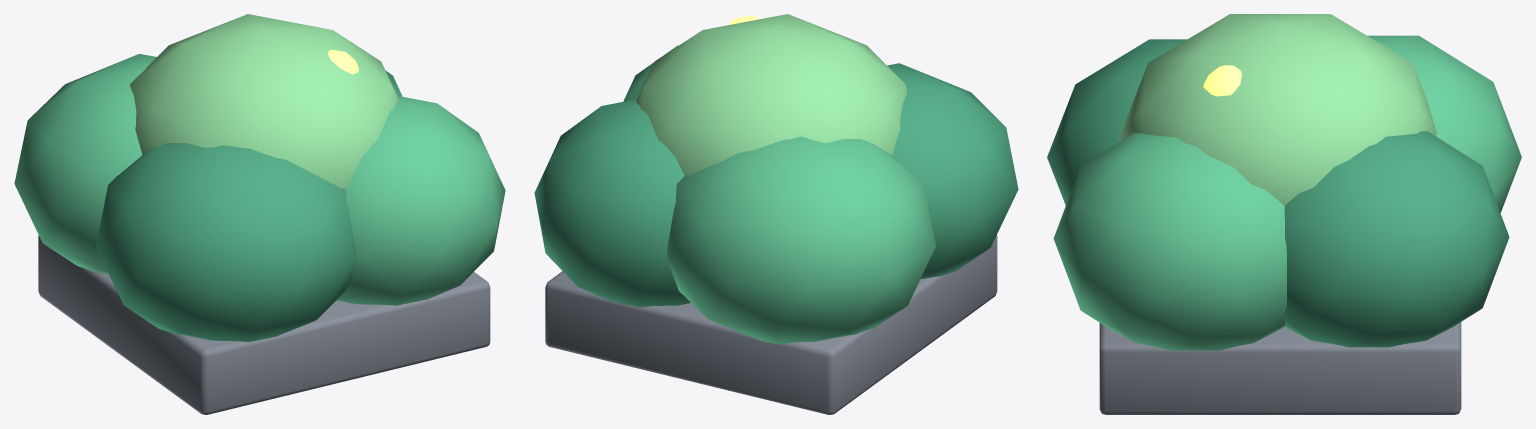
The model's file is foundry_bush.glb.
The picture shows the model from 3 angles, left to right: view 1: azimuth 30°, elevation 25°; view 2: azimuth 150°, elevation 25°; view 3: azimuth 270°, elevation 25°; orthographic projection. The views are drawn at different scales.
Visible parts, largest first — view 1: FoundryPlanterBush; view 2: FoundryPlanterBush; view 3: FoundryPlanterBush.
Boxes of the visible parts, x1,y1,x2,y2 form: FoundryPlanterBush: [14, 14, 505, 414]; FoundryPlanterBush: [534, 14, 1018, 414]; FoundryPlanterBush: [1047, 14, 1521, 414].
Size of the model in its own units: 1.3 by 0.98 by 1.34.
